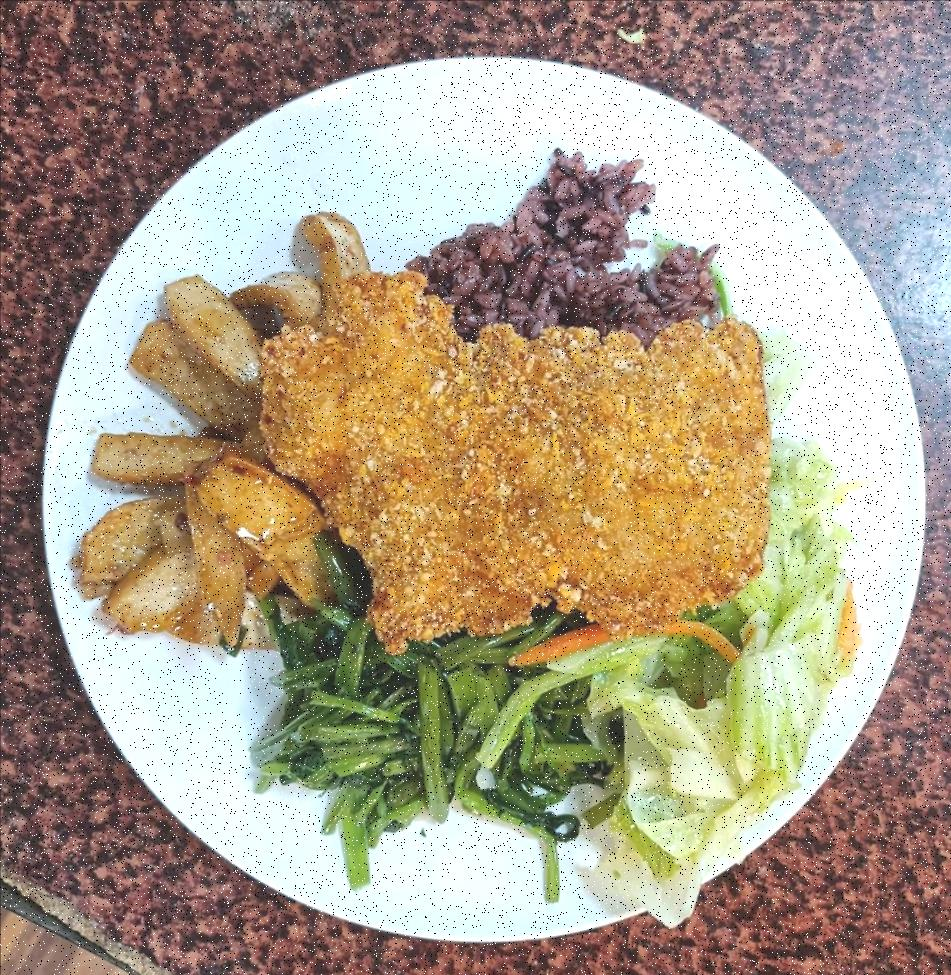chicken steak: (255, 265, 784, 657)
plate: (20, 36, 928, 940)
purple rice: (334, 168, 706, 582)
side dish: (66, 236, 298, 656), (610, 449, 843, 860), (263, 607, 590, 818)
